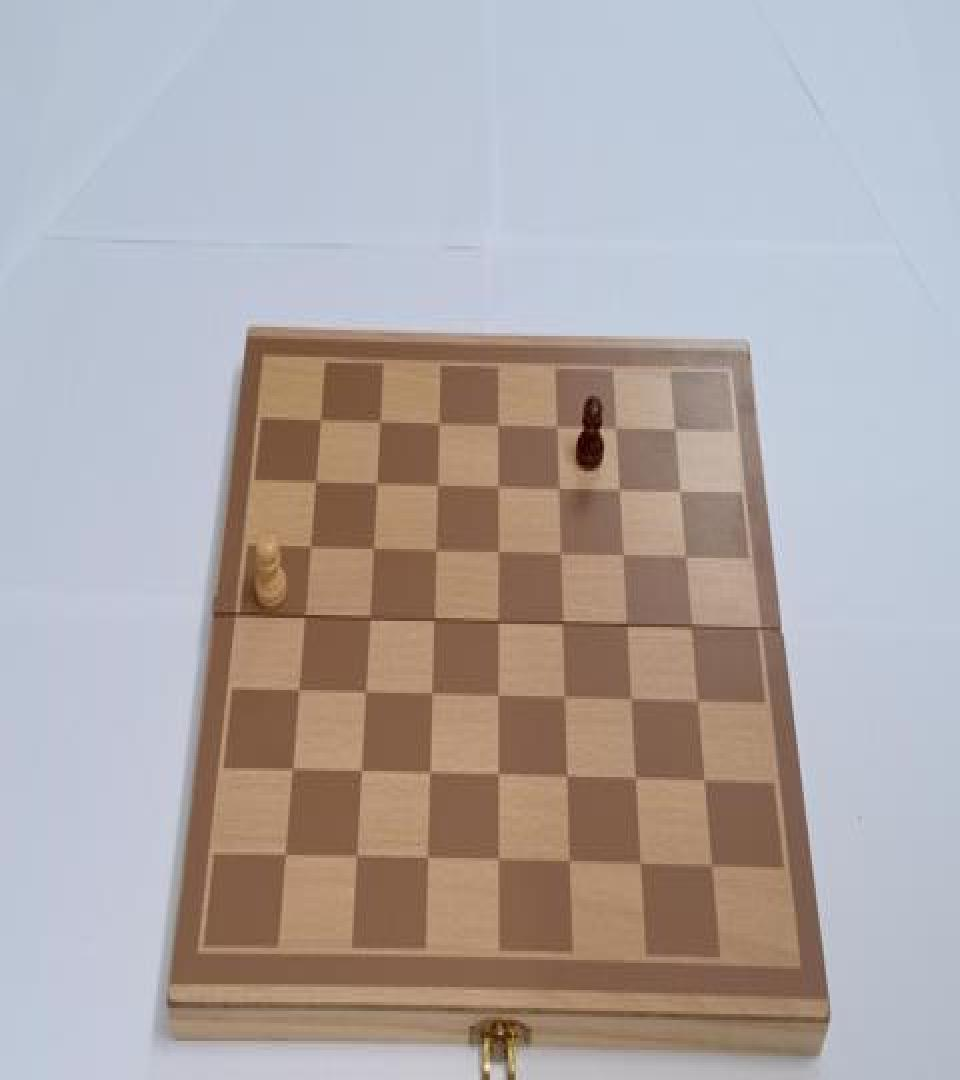xcorner: (367, 472, 385, 500), (429, 412, 447, 440), (669, 478, 687, 506), (313, 411, 331, 438), (307, 471, 325, 498), (296, 604, 314, 631), (290, 678, 308, 705), (284, 756, 302, 783), (276, 840, 294, 867), (371, 411, 389, 438), (364, 537, 382, 564), (360, 606, 378, 633), (427, 474, 445, 501), (426, 538, 444, 565), (422, 681, 440, 708), (420, 759, 438, 786), (418, 843, 436, 870), (487, 414, 505, 441), (488, 474, 506, 501), (488, 540, 506, 567), (488, 609, 506, 636), (488, 683, 506, 710), (488, 762, 506, 789), (489, 846, 507, 873), (546, 415, 564, 442), (552, 610, 570, 637), (555, 684, 573, 711), (605, 415, 623, 442), (608, 477, 626, 504), (612, 543, 630, 570), (617, 612, 635, 639), (626, 765, 644, 792), (631, 851, 649, 878), (663, 417, 681, 444), (675, 545, 693, 572), (688, 687, 706, 714), (695, 766, 713, 793), (703, 852, 721, 879), (302, 536, 320, 562), (356, 680, 374, 706), (352, 758, 370, 784), (347, 842, 365, 868), (424, 608, 442, 634), (548, 476, 566, 502), (550, 542, 568, 568), (557, 764, 575, 790), (560, 848, 578, 874), (621, 686, 639, 712), (681, 614, 699, 640)
